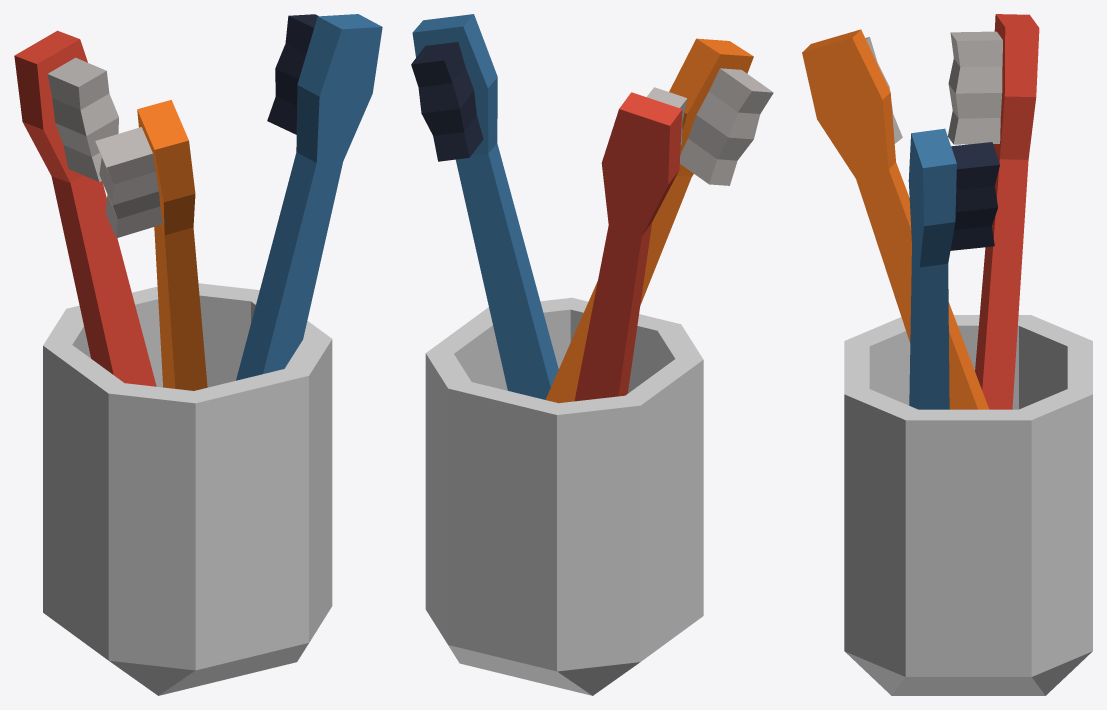
The model's file is furniture_toothbrush-holder.fbx.
3 renders of one model, left to right at view 1: azimuth 30°, elevation 25°; view 2: azimuth 150°, elevation 25°; view 3: azimuth 270°, elevation 25°, orthographic. The views are drawn at different scales.
Parts seen in each view (by area): view 1: furniture_toothbrush_holder; view 2: furniture_toothbrush_holder; view 3: furniture_toothbrush_holder.
Boxes of the visible parts, box(x1,y1,x2,y2) form: furniture_toothbrush_holder: box(14, 14, 382, 695); furniture_toothbrush_holder: box(411, 14, 773, 695); furniture_toothbrush_holder: box(802, 14, 1092, 695).
Size of the model in its own units: 109 by 200 by 88.7.
